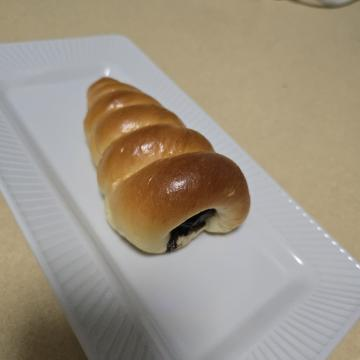cream horn: (63, 98, 280, 284)
